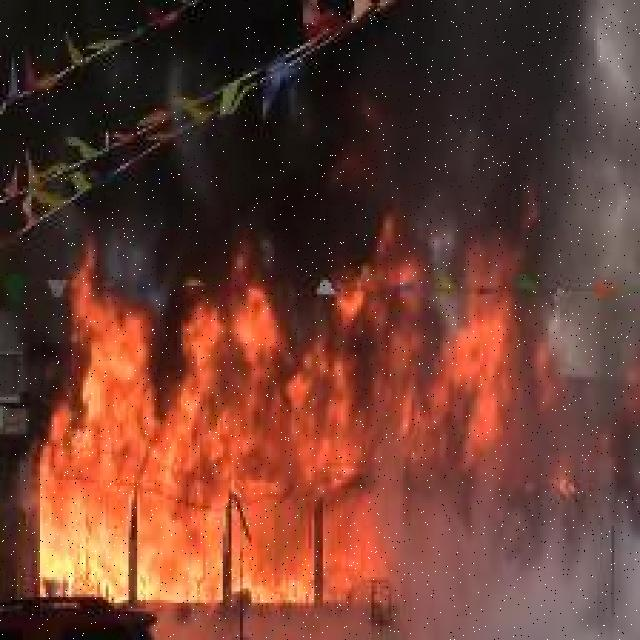fire: (34, 235, 613, 608)
